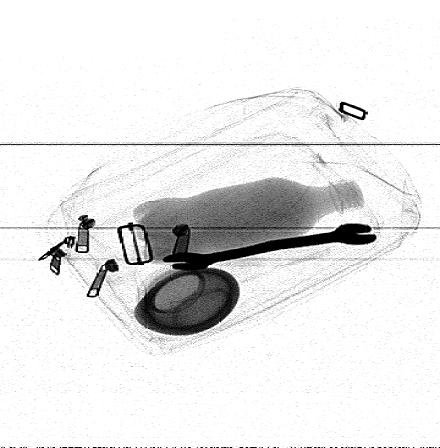Wrench: (159, 221, 378, 271)
